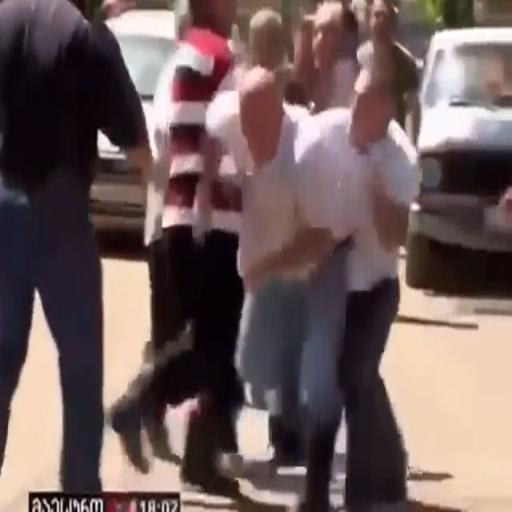violencia: (175, 42, 428, 512)
